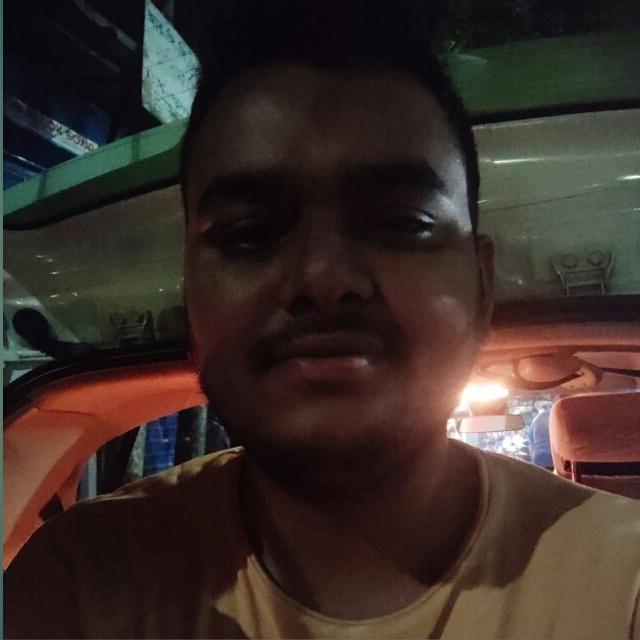Happy: (126, 65, 541, 491)
